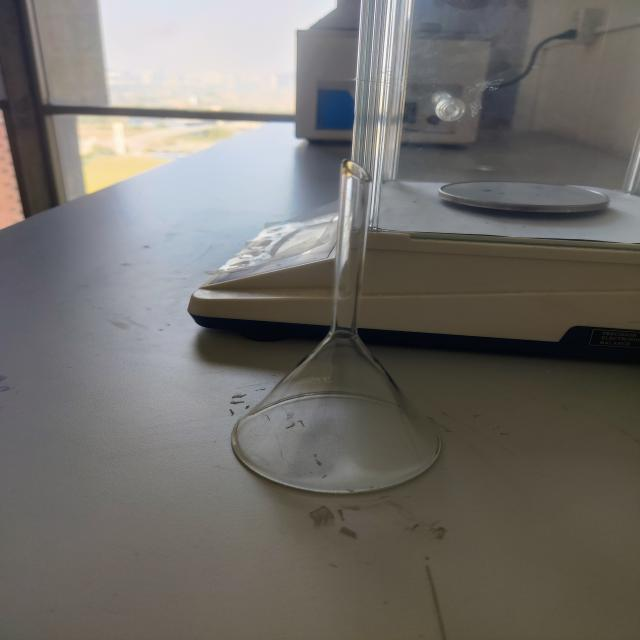Funnel: (214, 125, 481, 526)
